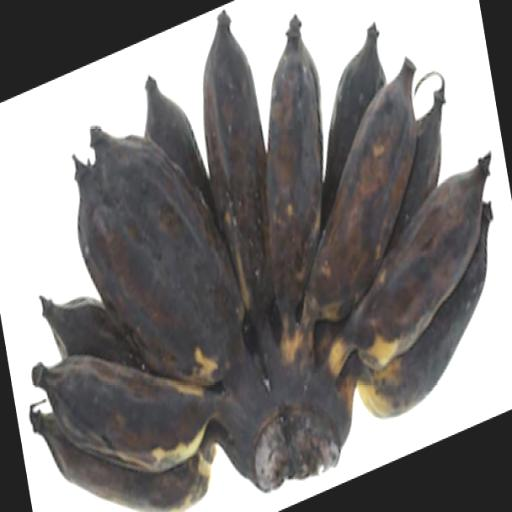banana-overripe: (22, 3, 512, 495)
